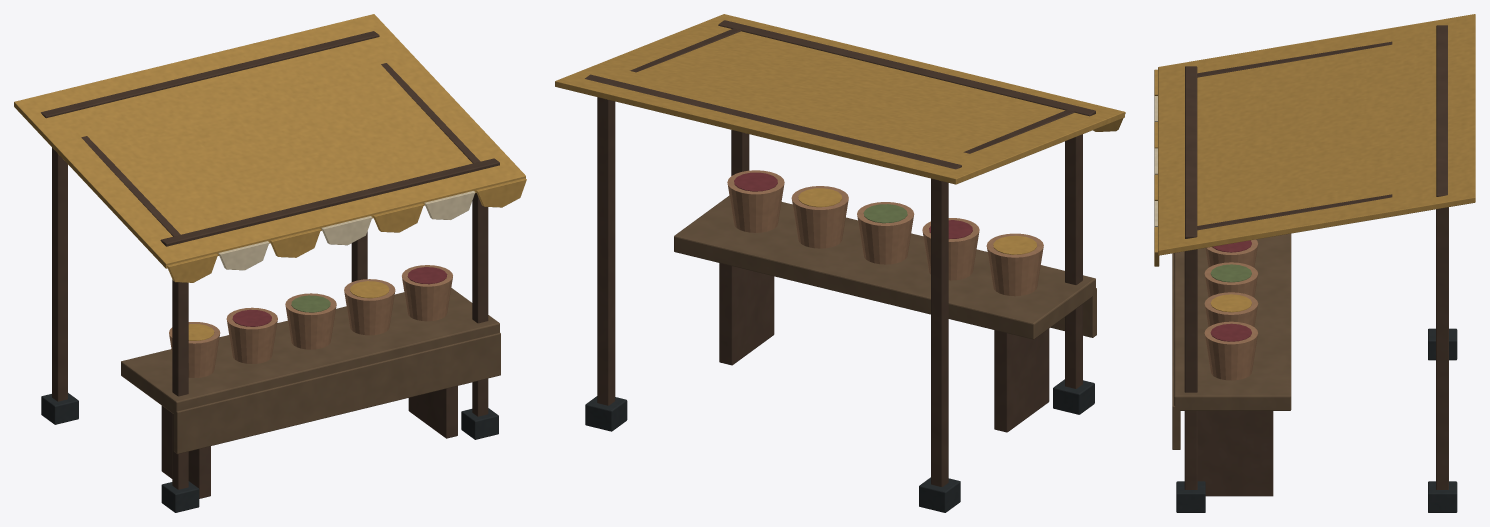
Rendered from Spice_Stall.fbx.
3 views of the same model, side by side, from view 1: azimuth 30°, elevation 25°; view 2: azimuth 150°, elevation 25°; view 3: azimuth 270°, elevation 25° (orthographic). The views are drawn at different scales.
Visible parts, largest first — view 1: Spice_Stall.001; view 2: Spice_Stall.001; view 3: Spice_Stall.001.
Boxes of the visible parts, x1,y1,x2,y2 form: Spice_Stall.001: (14, 14, 526, 512); Spice_Stall.001: (555, 14, 1125, 512); Spice_Stall.001: (1154, 14, 1475, 512).
Bounding box in the file's own units: 3.56 × 2.94 × 2.63.
